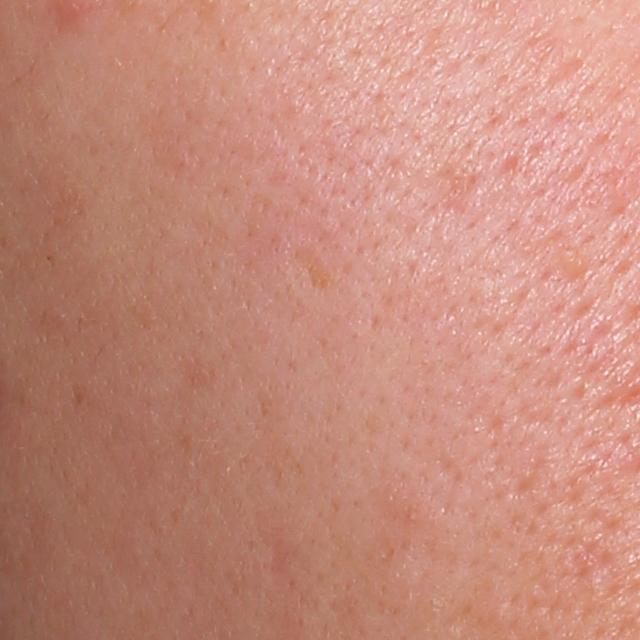atrophic_scar: (284, 243, 338, 300), (439, 161, 479, 222), (538, 55, 584, 95)
comedo: (557, 246, 593, 279)
